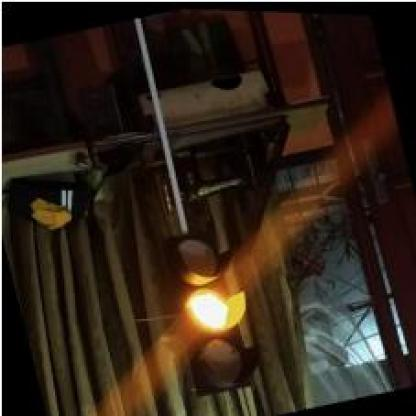yellow: (157, 221, 264, 395)
